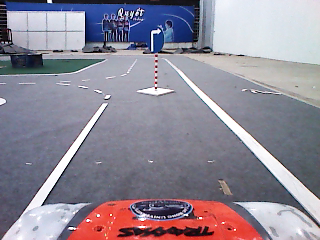turn: (146, 26, 166, 54)
